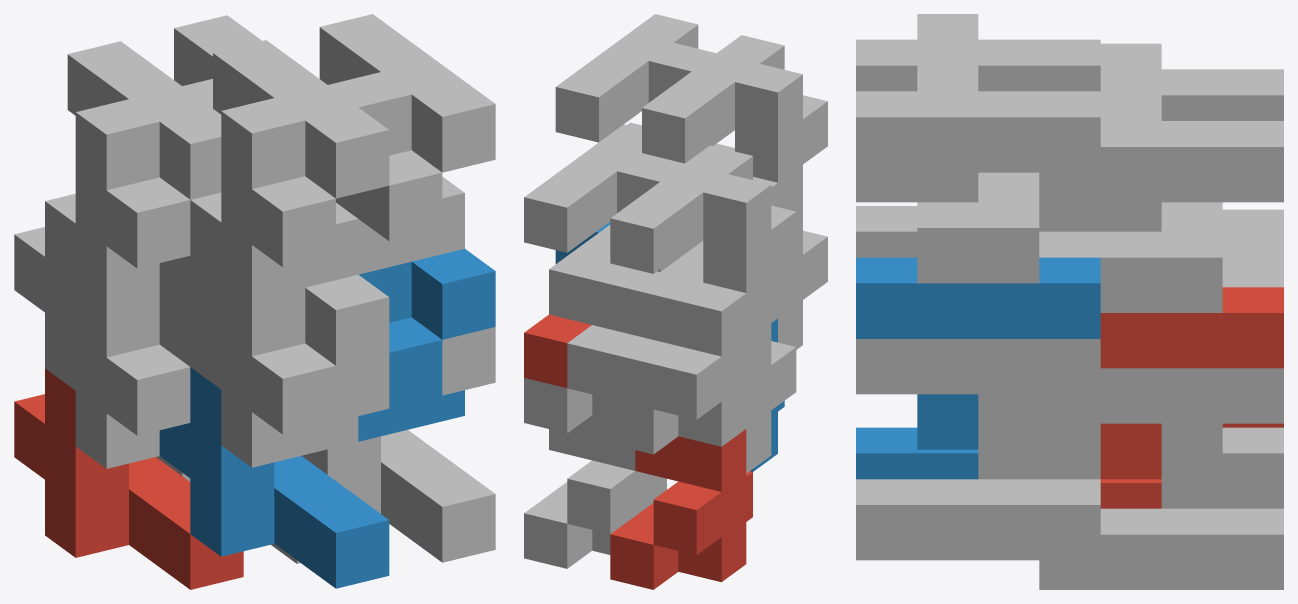
The model's file is tiling.obj.
The picture shows the model from 3 angles, left to right: view 1: azimuth 30°, elevation 25°; view 2: azimuth 150°, elevation 25°; view 3: azimuth 270°, elevation 25°; orthographic projection. The views are drawn at different scales.
Visible parts, largest first — view 1: copy_2_domain_4, copy_2_domain_3, copy_2_domain_8, copy_2_domain_2, copy_1_domain_2, copy_1_domain_1, copy_2_domain_1, copy_2_domain_6, copy_1_domain_6, copy_1_domain_4, copy_1_domain_3, copy_2_domain_7 (+1 smaller); view 2: copy_2_domain_3, copy_2_domain_4, copy_1_domain_3, copy_1_domain_1, copy_1_domain_7, copy_1_domain_5, copy_2_domain_7, copy_2_domain_8, copy_2_domain_1, copy_2_domain_2, copy_2_domain_5, copy_1_domain_4 (+1 smaller); view 3: copy_2_domain_8, copy_1_domain_6, copy_2_domain_7, copy_1_domain_5, copy_1_domain_8, copy_1_domain_7, copy_2_domain_6, copy_2_domain_5, copy_2_domain_4, copy_2_domain_3, copy_1_domain_2, copy_2_domain_2 (+3 smaller).
Boxes of the visible parts, box(x1,y1,x2,y2) form: copy_2_domain_4: box(213, 40, 389, 300); copy_2_domain_3: box(67, 41, 221, 301); copy_2_domain_8: box(319, 14, 495, 274); copy_2_domain_2: box(221, 274, 389, 467); copy_1_domain_2: box(159, 367, 389, 588); copy_1_domain_1: box(14, 368, 243, 589); copy_2_domain_1: box(75, 279, 190, 468); copy_2_domain_6: box(358, 248, 495, 441); copy_1_domain_6: box(301, 430, 495, 562); copy_1_domain_4: box(159, 192, 389, 421); copy_1_domain_3: box(14, 193, 75, 390); copy_2_domain_7: box(174, 15, 261, 108); copy_2_domain_3: box(610, 145, 796, 337); copy_2_domain_4: box(642, 35, 827, 214); copy_1_domain_3: box(610, 272, 746, 454); copy_1_domain_1: box(610, 429, 752, 589); copy_1_domain_7: box(524, 251, 659, 433); copy_1_domain_5: box(524, 415, 666, 568); copy_2_domain_7: box(524, 124, 703, 271); copy_2_domain_8: box(555, 14, 734, 145); copy_2_domain_1: box(610, 320, 796, 473); copy_2_domain_2: box(778, 210, 827, 349); copy_2_domain_5: box(524, 314, 591, 388); copy_1_domain_4: box(685, 177, 777, 322); copy_2_domain_8: box(856, 65, 1100, 283); copy_1_domain_6: box(856, 394, 1100, 560); copy_2_domain_7: box(1039, 95, 1283, 312); copy_1_domain_5: box(1039, 423, 1283, 589); copy_1_domain_8: box(856, 176, 1100, 394); copy_1_domain_7: box(1039, 206, 1283, 423); copy_2_domain_6: box(856, 257, 1100, 449); copy_2_domain_5: box(1100, 287, 1283, 479); copy_2_domain_4: box(856, 14, 1100, 91); copy_2_domain_3: box(1100, 43, 1283, 120); copy_1_domain_2: box(856, 427, 978, 479); copy_2_domain_2: box(856, 206, 917, 257).
Bounding box in the file's own units: 5 × 9 × 7.
